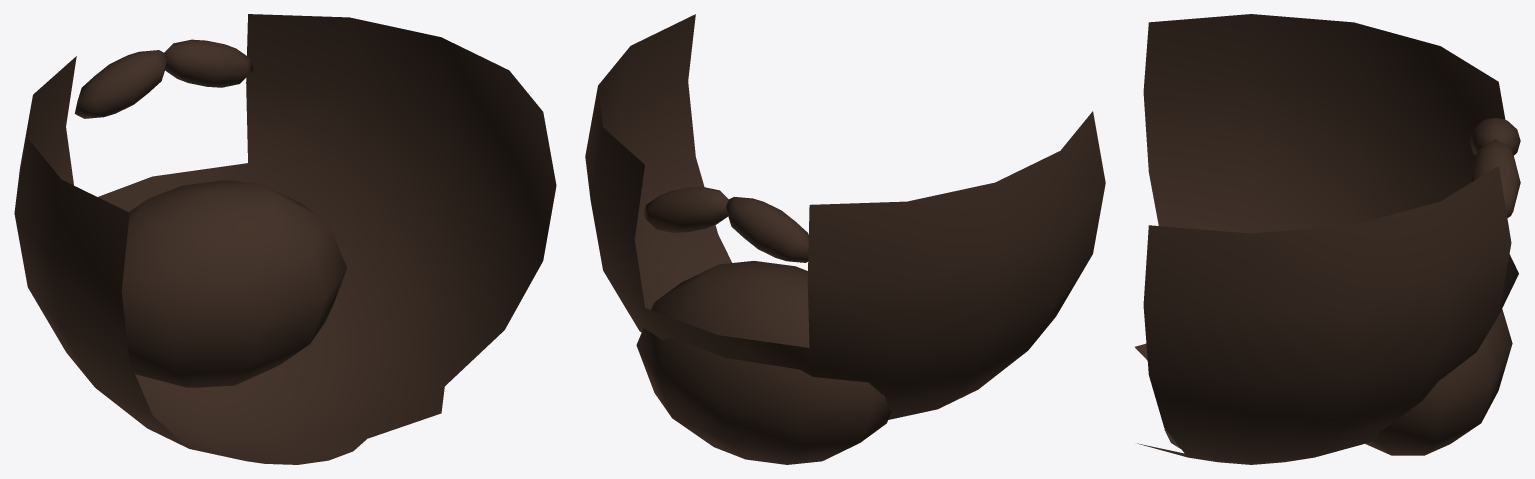
File: beard_3.glb
3 views of the same model, side by side, from view 1: azimuth 30°, elevation 25°; view 2: azimuth 150°, elevation 25°; view 3: azimuth 270°, elevation 25° (orthographic). The views are drawn at different scales.
Visible parts, largest first — view 1: Head; view 2: Head; view 3: Head.
Part boxes in pixels (x1,y1,x2,y2): Head: [14, 14, 556, 464]; Head: [585, 14, 1105, 464]; Head: [1135, 14, 1520, 464].
Bounding box in the file's own units: 0.1882 × 0.1206 × 0.1331.
